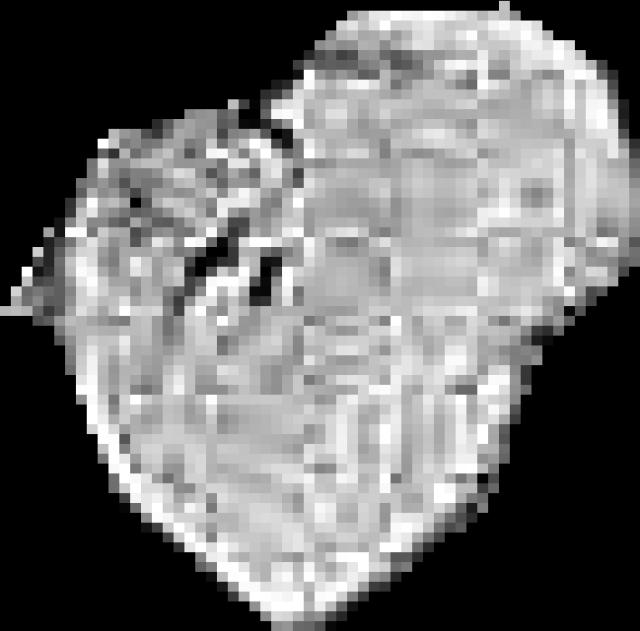tumor_moderate_chance: (0, 1, 640, 631)
